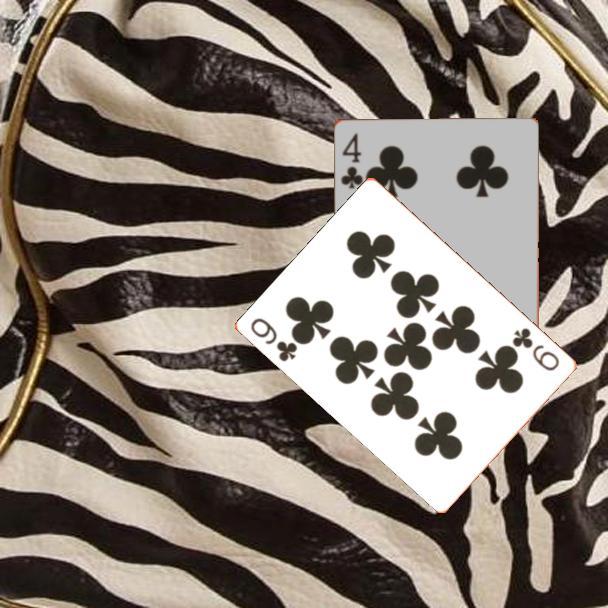c04: (337, 129, 365, 191)
c09: (247, 314, 301, 365), (509, 324, 563, 374)
